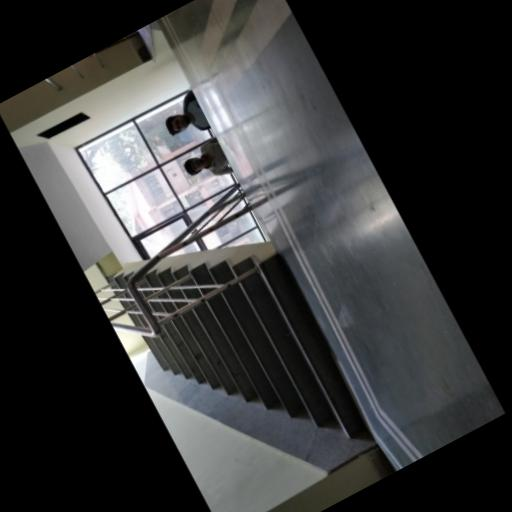stairs: (145, 241, 363, 435)
